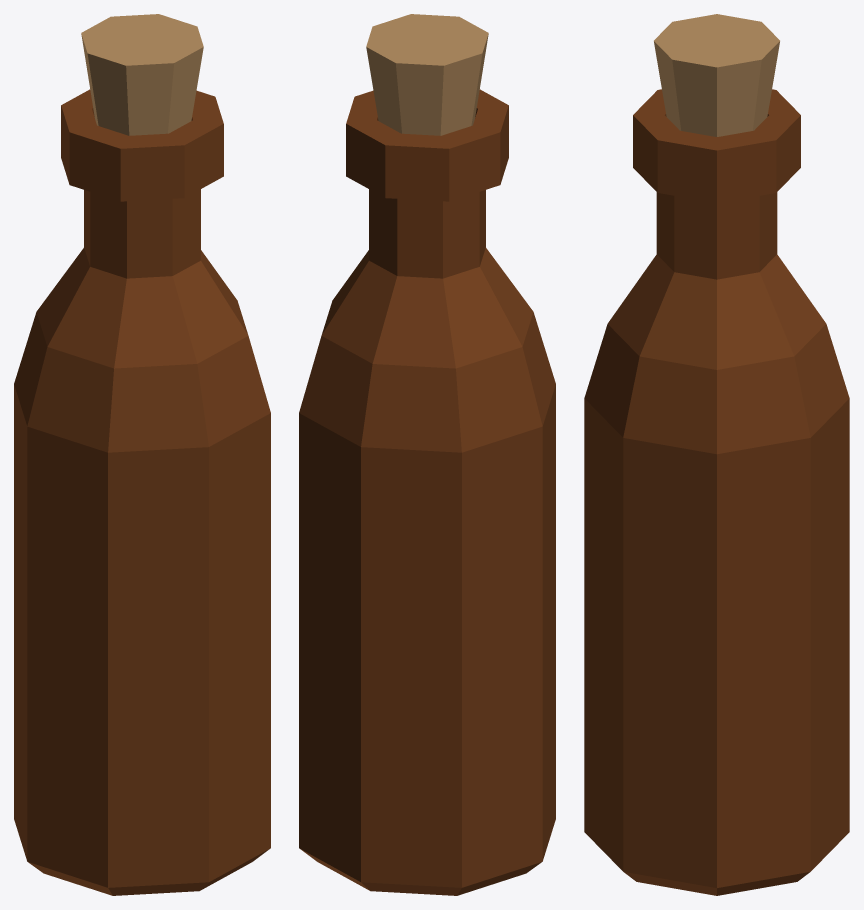
Rendered from Bottle_03.fbx.
3 views of the same model, side by side, from view 1: azimuth 30°, elevation 25°; view 2: azimuth 150°, elevation 25°; view 3: azimuth 270°, elevation 25° (orthographic).
Visible parts, largest first — view 1: Bottle_03; view 2: Bottle_03; view 3: Bottle_03.
Boxes of the visible parts, x1,y1,x2,y2 form: Bottle_03: (14, 14, 270, 895); Bottle_03: (299, 14, 555, 895); Bottle_03: (584, 14, 849, 895).
Bounding box in the file's own units: 0.0729 × 0.2447 × 0.0729.
